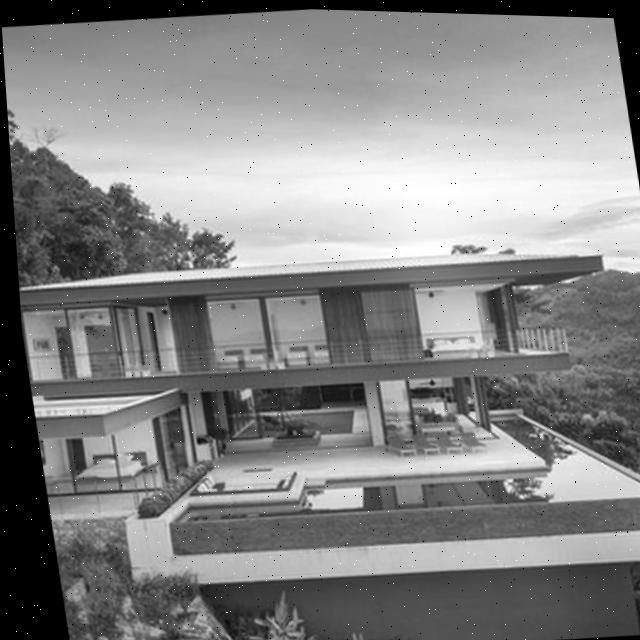building: (15, 226, 640, 517)
